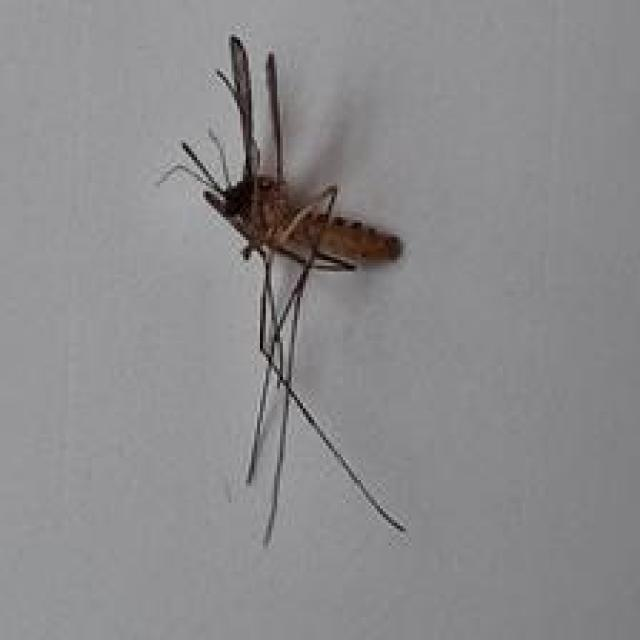Culex: (156, 31, 410, 548)
